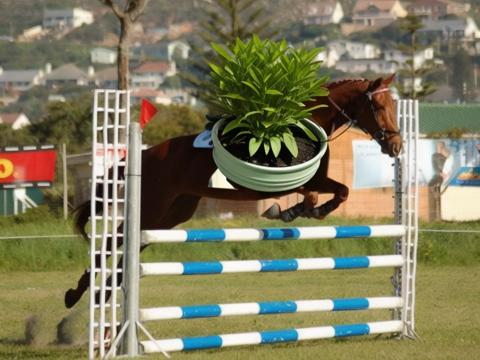horse: (65, 73, 403, 310)
pottedplant: (210, 33, 328, 191)
